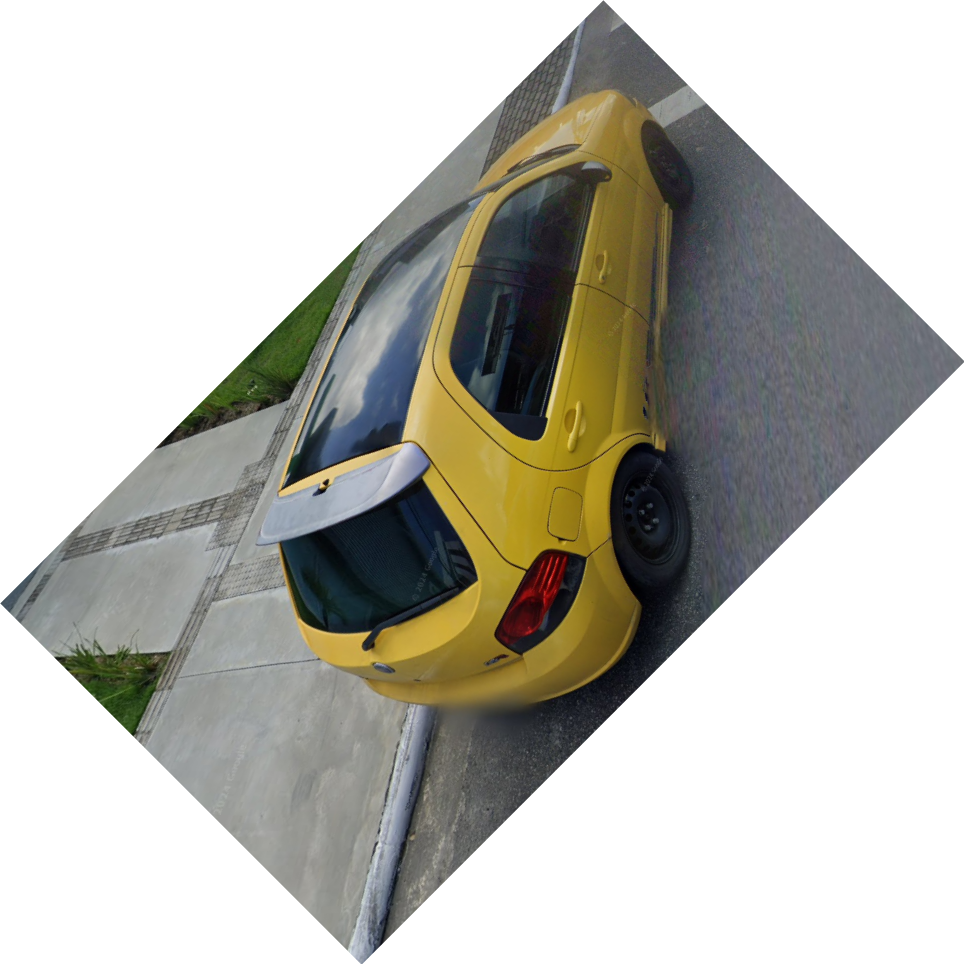car: (272, 82, 707, 749)
